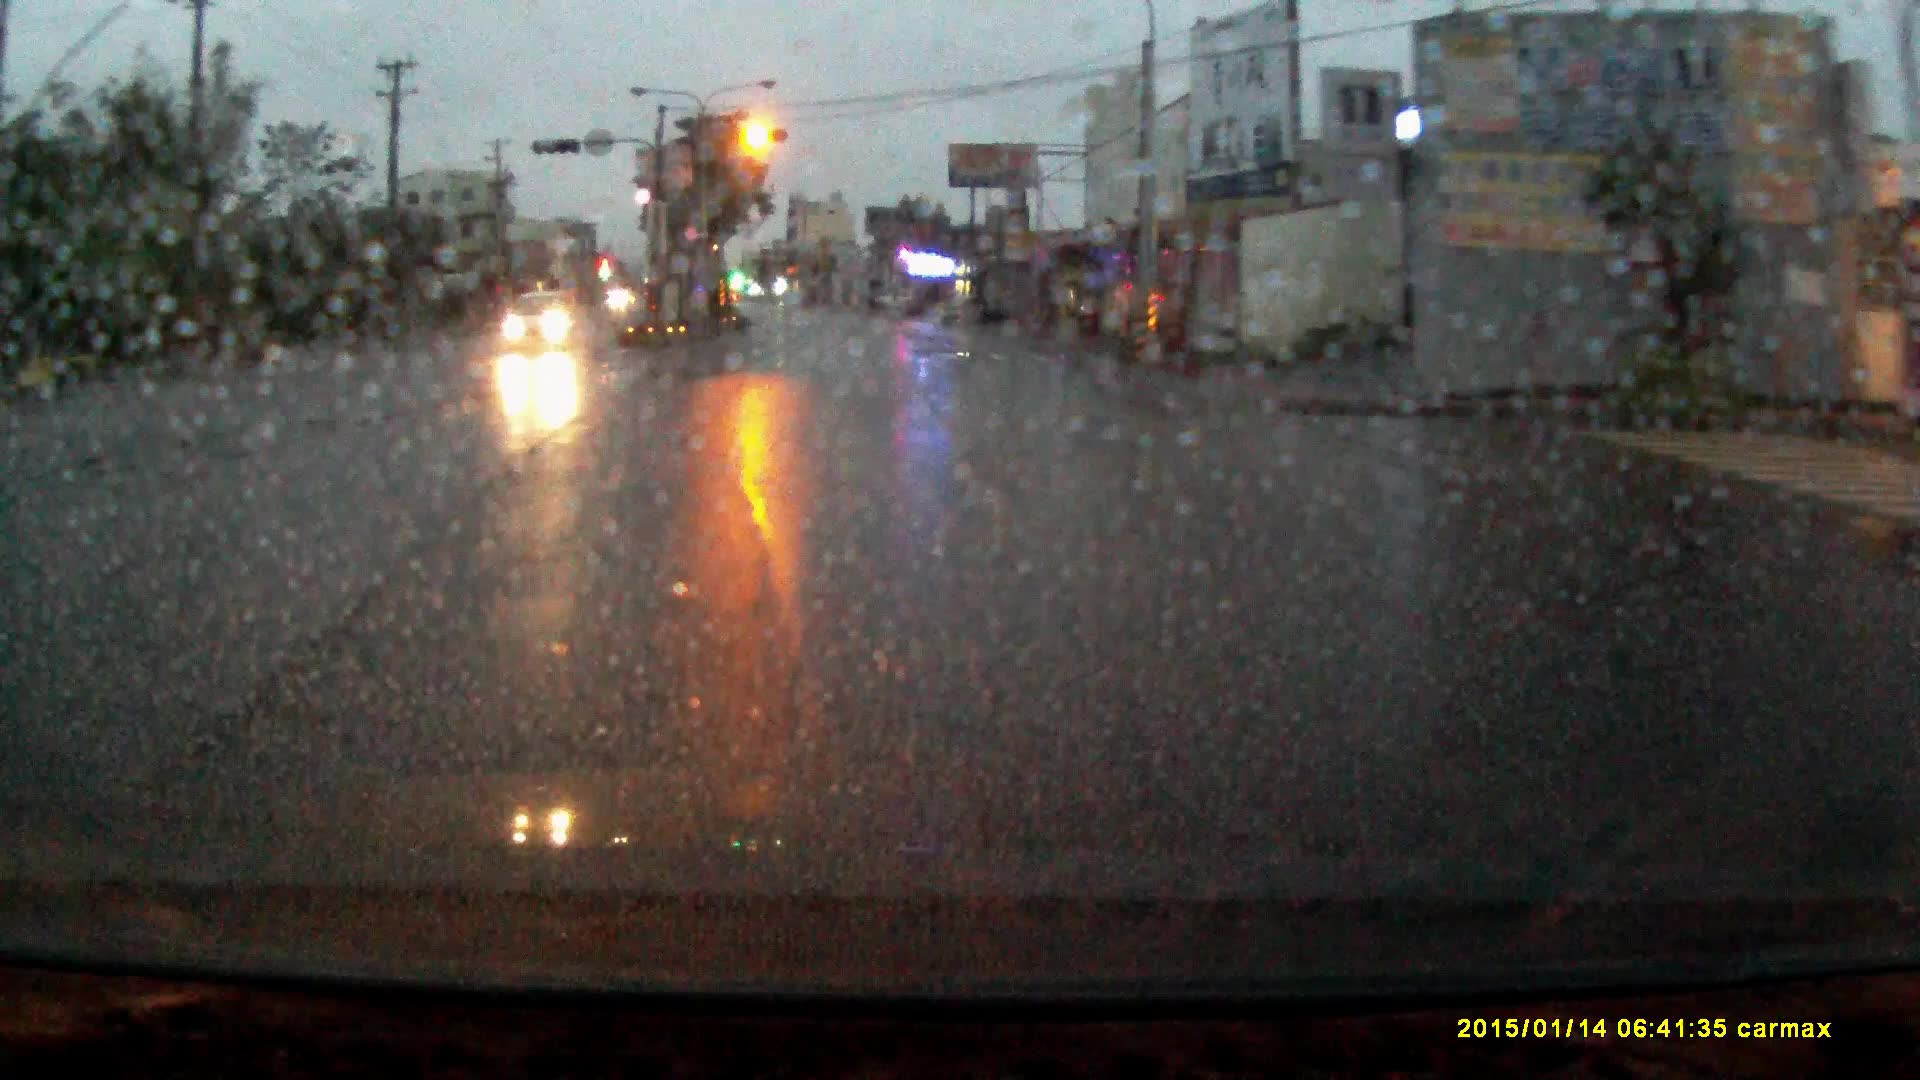vehicle: (500, 295, 583, 361)
